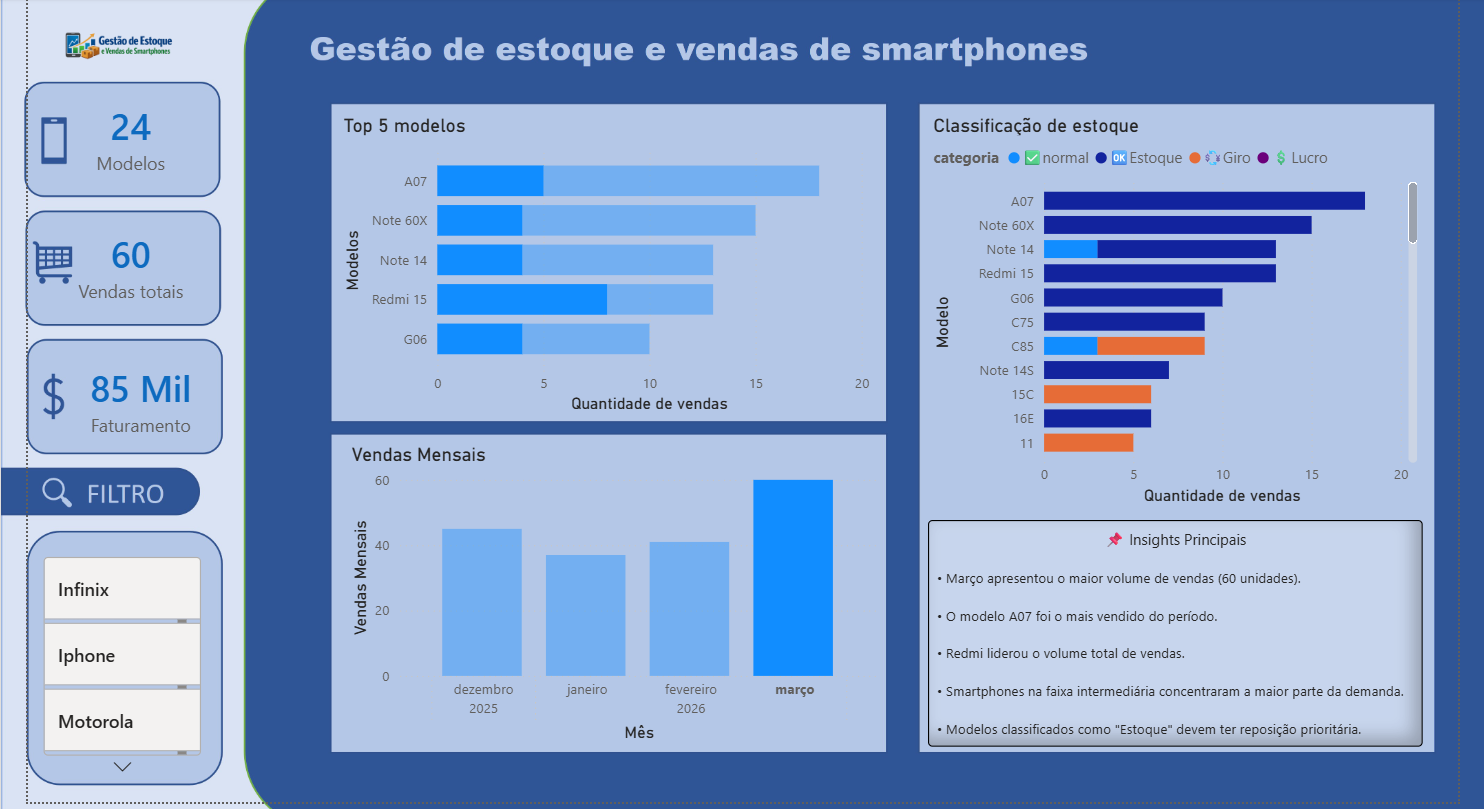

The page's visual inventory and layout, read from the dashboard file:
{"tool":"powerbi","page":{"name":"Página 1","canvas":[1280,720],"ordinal":0},"visuals":[{"type":"columnChart","title":"Vendas Mensais ","fields":{"Y":["Sum(dados_tratados.QtdeProduto)"],"Category":["dados_tratados.Mes_Ano.Variation.Hierarquia de datas.Ano","dados_tratados.Mes_Ano.Variation.Hierarquia de datas.Mês"]},"box":[284.6,398.5,481.3,272.6],"z":0},{"type":"barChart","title":"Top 5 modelos ","fields":{"Category":["dados_tratados.Modelo"],"Y":["Sum(dados_tratados.QtdeProduto)"]},"box":[277.6,103.9,480.9,272.2],"z":1000},{"type":"barChart","title":"Classificação de estoque","fields":{"Category":["modelo_fat.Modelo"],"Y":["Sum(modelo_fat.QtdeProduto)"],"Series":["modelo_fat.categoria"]},"box":[806,103.9,443.3,354.6],"z":2000},{"type":"cardVisual","fields":{"Rows":["dados_tratados.Marca"]},"box":[9,475.5,151.3,228.4],"z":3000},{"type":"image","box":[9,0,151.3,90.4],"z":4000},{"type":"cardVisual","fields":{"Data":["Sum(dados_tratados.QtdeProduto)"]},"box":[0,185.4,184.5,108.4],"z":5000},{"type":"cardVisual","fields":{"Data":["Sum(dados_tratados.ValorTotal)"]},"box":[9,305.4,184.5,108.4],"z":6000},{"type":"cardVisual","fields":{"Data":["Count(dados_tratados.Modelo)"]},"box":[0,70.7,184.5,108.4],"z":7000},{"type":"textbox","box":[806,467.5,443.3,203.3],"z":7001}]}

Visuals, with their boxes in screenshot pixels (x1, y1, x2, y2):
"Vendas Mensais " columnChart: {"left": 330, "top": 434, "right": 882, "bottom": 747}
"Top 5 modelos " barChart: {"left": 322, "top": 96, "right": 874, "bottom": 408}
"Classificação de estoque" barChart: {"left": 928, "top": 96, "right": 1437, "bottom": 503}
cardVisual - dados_tratados.Marca: {"left": 14, "top": 522, "right": 188, "bottom": 784}
image: {"left": 14, "top": 0, "right": 188, "bottom": 80}
cardVisual - Sum(dados_tratados.QtdeProduto): {"left": 4, "top": 189, "right": 215, "bottom": 314}
cardVisual - Sum(dados_tratados.ValorTotal): {"left": 14, "top": 327, "right": 226, "bottom": 451}
cardVisual - Count(dados_tratados.Modelo): {"left": 4, "top": 58, "right": 215, "bottom": 182}
textbox: {"left": 928, "top": 513, "right": 1437, "bottom": 746}
